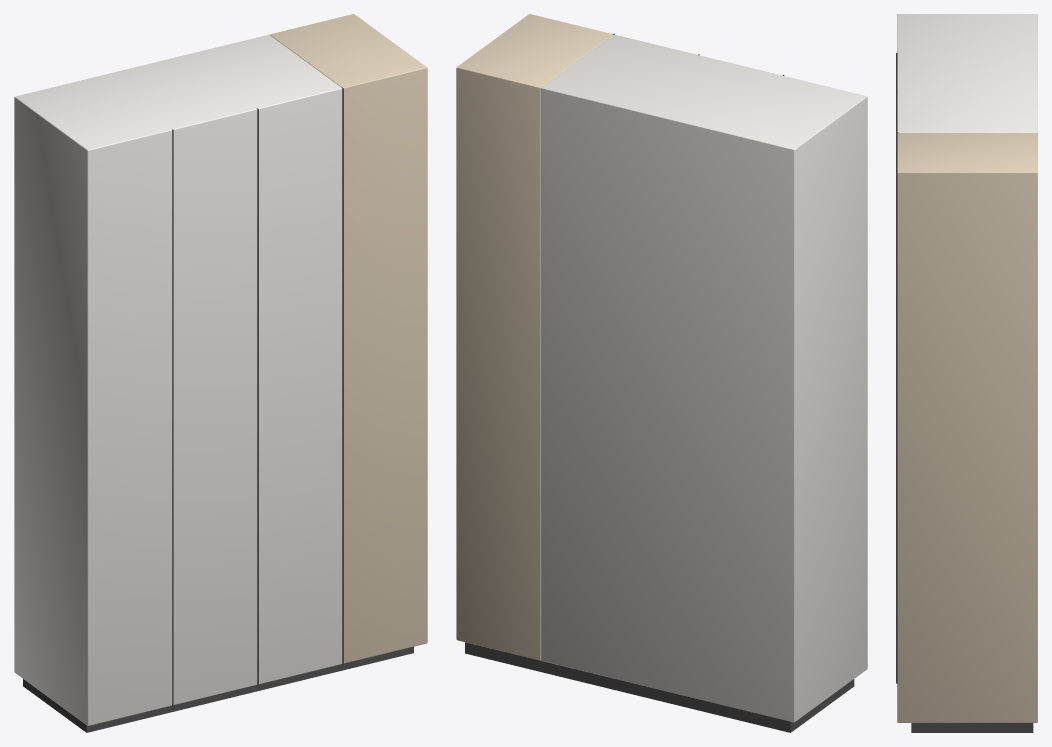
The model's file is mo_wardrobe.glb.
The picture shows the model from 3 angles, left to right: view 1: azimuth 30°, elevation 25°; view 2: azimuth 150°, elevation 25°; view 3: azimuth 270°, elevation 25°; orthographic projection. The views are drawn at different scales.
Parts seen in each view (by area): view 1: body, endpanel, plinth, gap1, gap2, seam; view 2: body, endpanel, plinth; view 3: endpanel, body, plinth, seam.
Boxes of the visible parts, bbox=[...] form: body: bbox=[14, 34, 342, 725]; endpanel: bbox=[270, 14, 427, 663]; plinth: bbox=[23, 646, 413, 732]; gap1: bbox=[172, 129, 173, 706]; gap2: bbox=[257, 108, 258, 685]; seam: bbox=[342, 87, 343, 664]; body: bbox=[541, 34, 867, 722]; endpanel: bbox=[456, 14, 612, 660]; plinth: bbox=[465, 642, 854, 732]; endpanel: bbox=[897, 133, 1037, 722]; body: bbox=[897, 14, 1037, 132]; plinth: bbox=[911, 723, 1033, 732]; seam: bbox=[896, 132, 898, 683].
Bounding box in the file's own units: 1.6 × 2.65 × 0.605.
